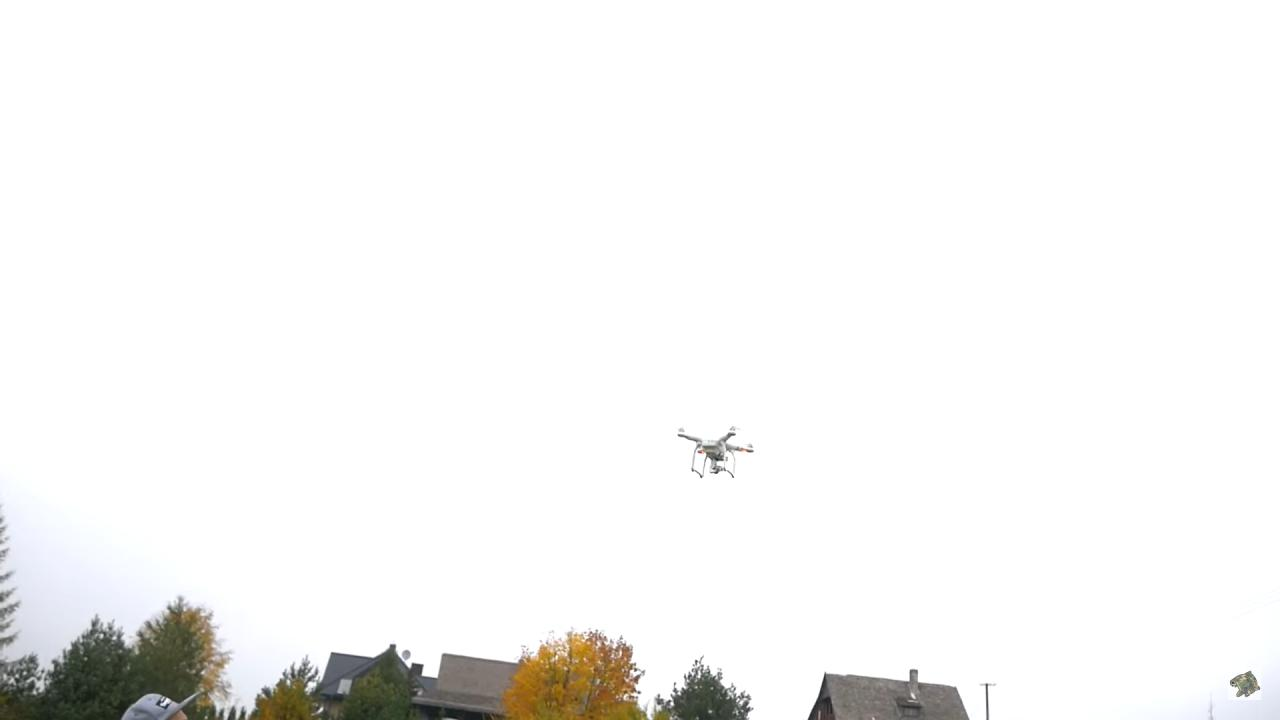Drone: (664, 415, 763, 491)
